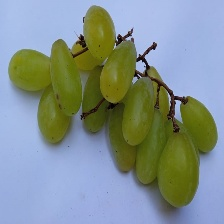grapes: (37, 58, 223, 207)
